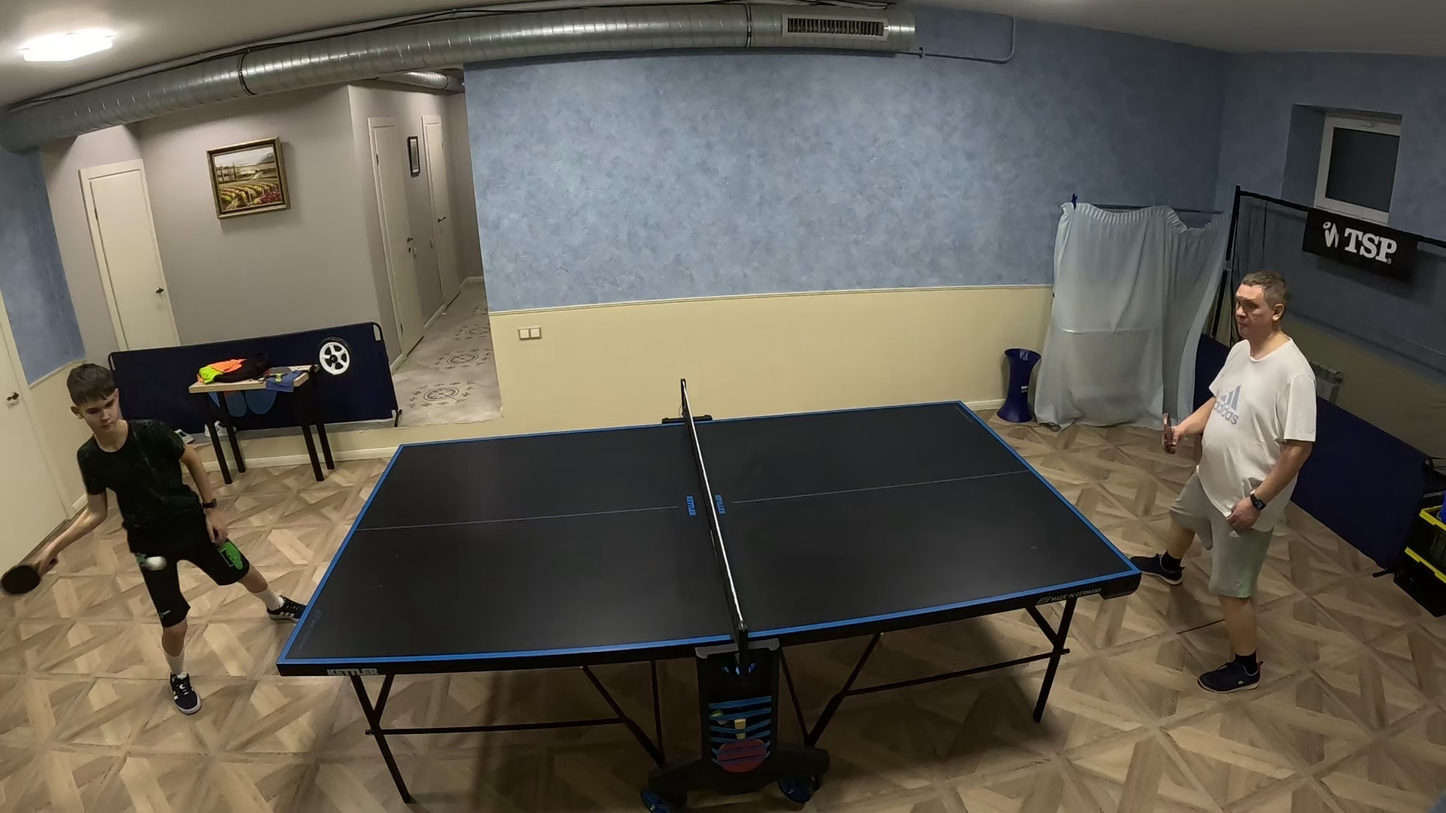Ball: (142, 556, 166, 571)
